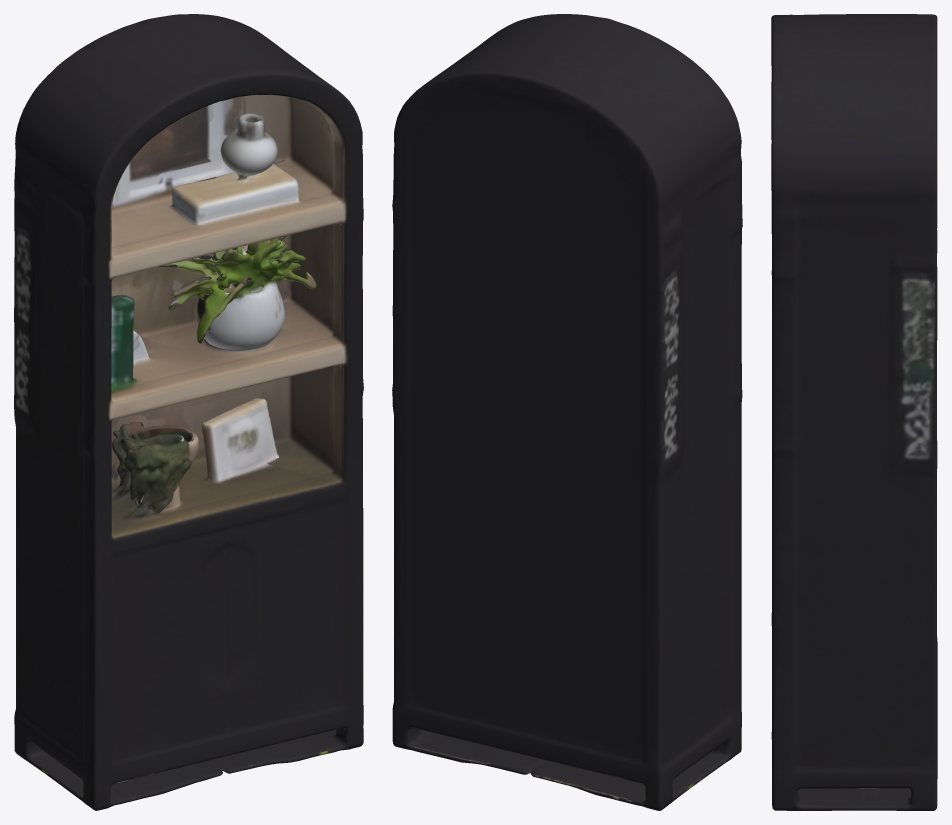
File: product-bohemian-modern-3-shelf-open-arched-bookcase-cabinet-black-02.glb
The picture shows the model from 3 angles, left to right: view 1: azimuth 30°, elevation 25°; view 2: azimuth 150°, elevation 25°; view 3: azimuth 270°, elevation 25°; orthographic projection.
Parts seen in each view (by area): view 1: geometry_0; view 2: geometry_0; view 3: geometry_0.
Boxes of the visible parts, <box> form: geometry_0: <box>14,14,363,810</box>; geometry_0: <box>392,14,742,810</box>; geometry_0: <box>771,14,937,810</box>.
Bounding box in the file's own units: 0.8021 × 1.98 × 0.4194.
1 material, 1 textured.
